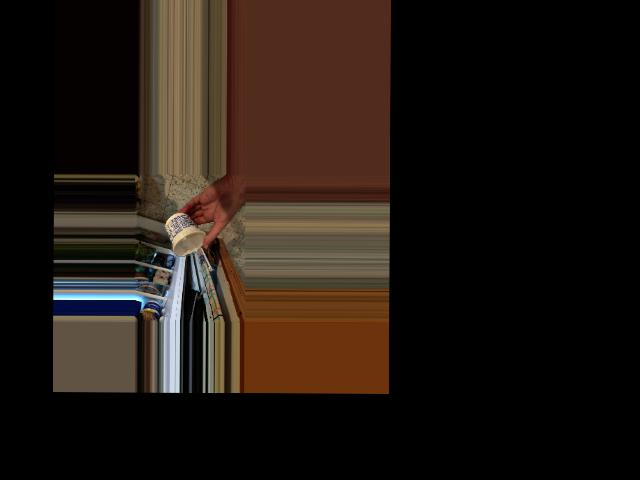cotage: (166, 216, 203, 258)
